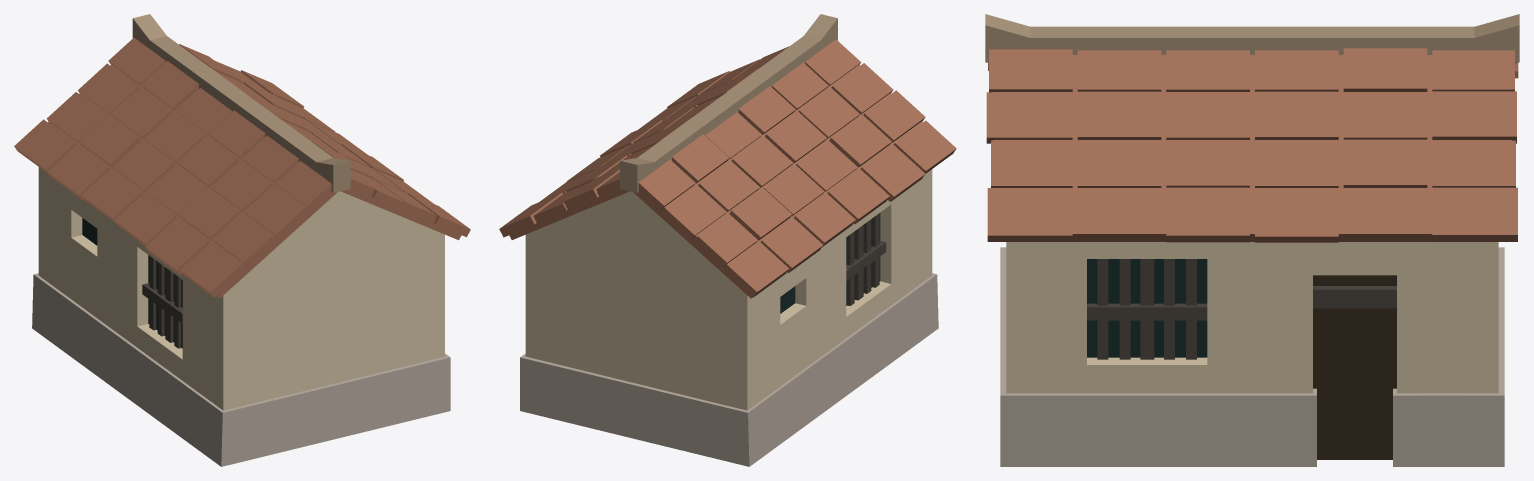
Rendered from Building_mode_L2_Northhouse002.fbx.
3 renders of one model, left to right at view 1: azimuth 30°, elevation 25°; view 2: azimuth 150°, elevation 25°; view 3: azimuth 270°, elevation 25°, orthographic. The views are drawn at different scales.
Visible parts, largest first — view 1: Building_mode_L2_Northhouse002; view 2: Building_mode_L2_Northhouse002; view 3: Building_mode_L2_Northhouse002.
Part boxes in pixels (box(x1,y1,x2,y2)): Building_mode_L2_Northhouse002: box(14, 14, 470, 466); Building_mode_L2_Northhouse002: box(499, 14, 956, 466); Building_mode_L2_Northhouse002: box(985, 14, 1519, 466).
Bounding box in the file's own units: 2.86 × 2.93 × 3.8.
